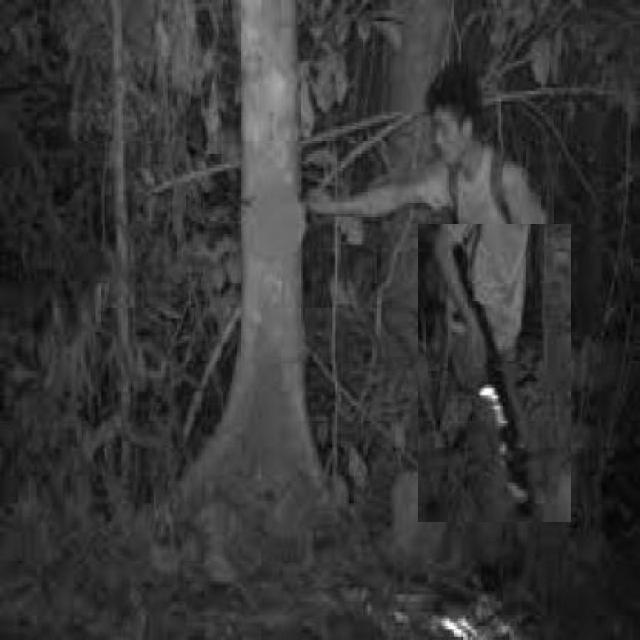poacher: (380, 72, 562, 586)
weapon: (418, 224, 571, 522)
